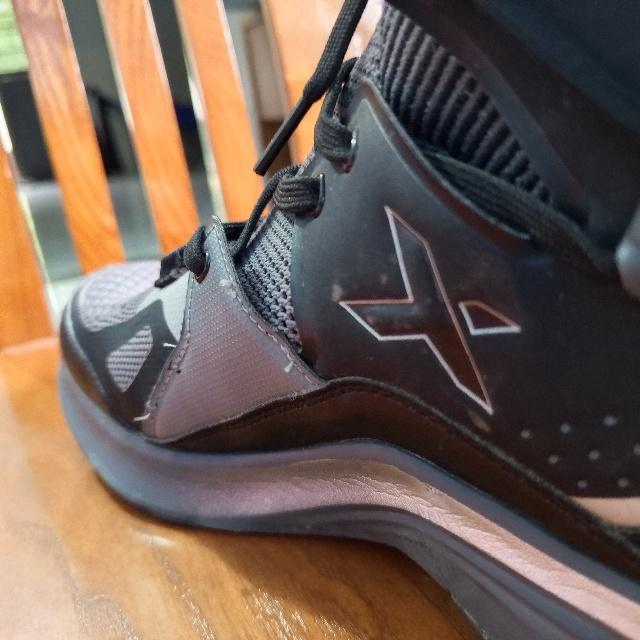broken-error: (213, 275, 244, 303), (131, 397, 160, 423)
